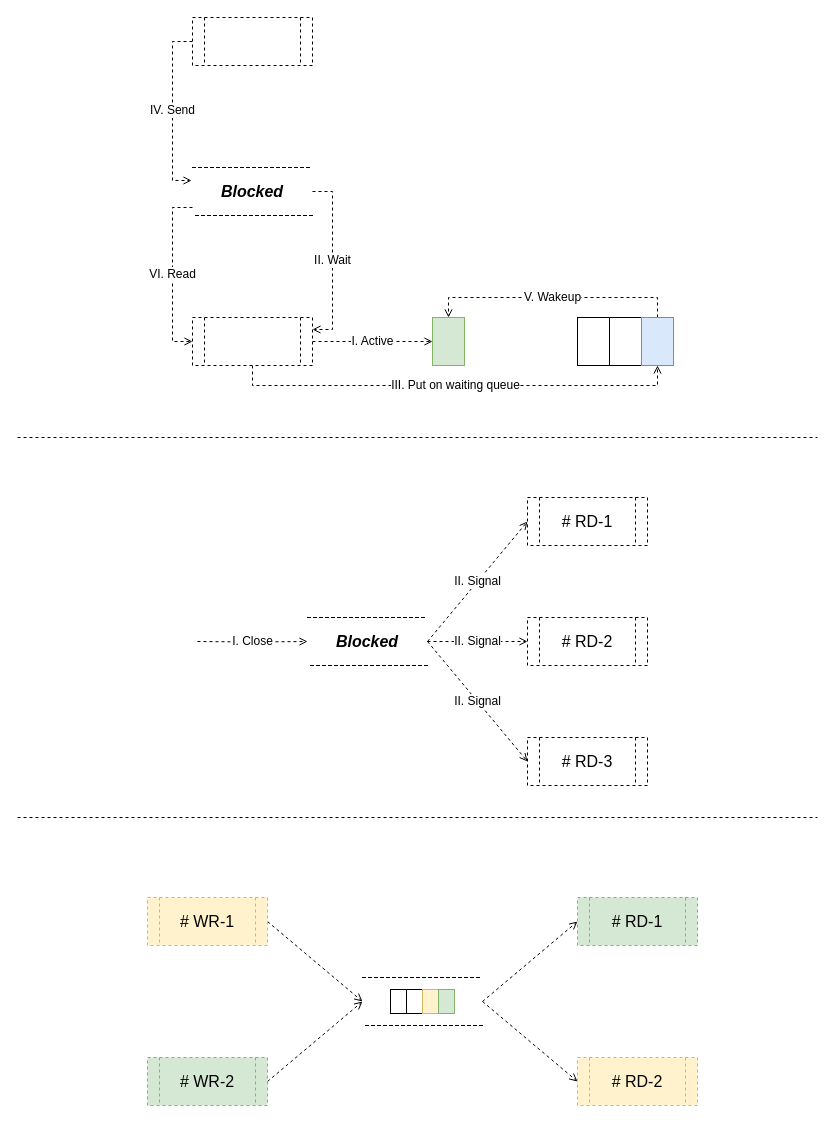
Some shapes in this 836 by 1123 pixel diagram are drawn without their labels. Each missing label, with the box of its shape:
# Read: (192, 316, 312, 366)
# Write: (192, 16, 312, 66)
